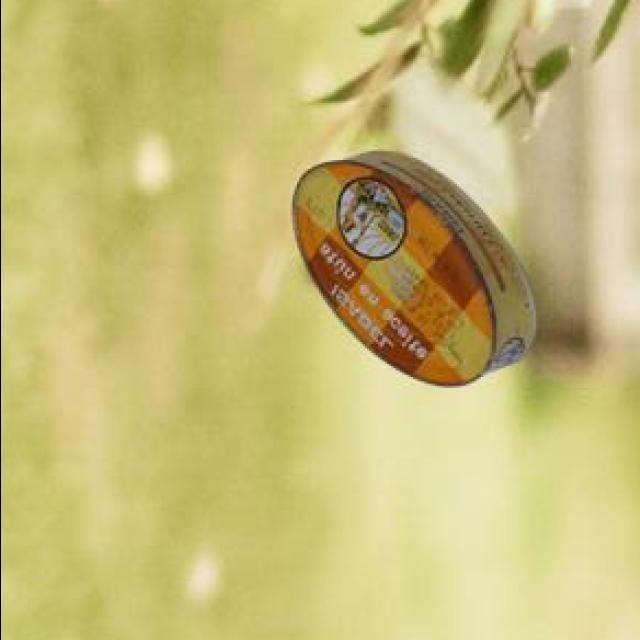logam: (295, 155, 538, 389)
